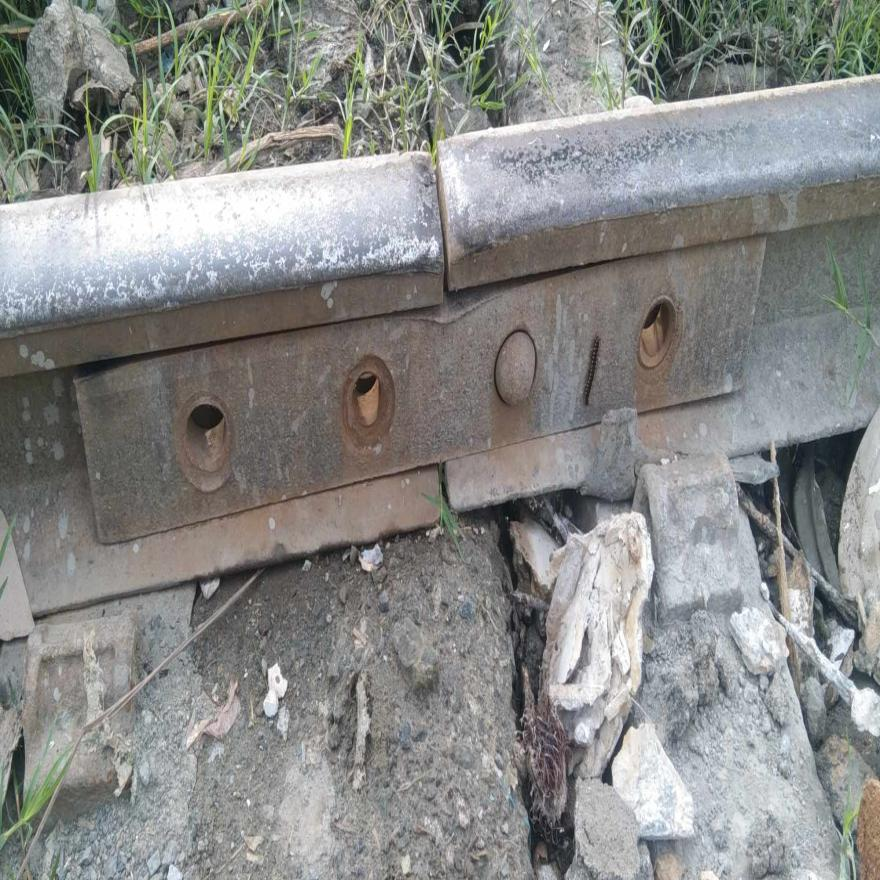railway-gap: (382, 100, 506, 339)
